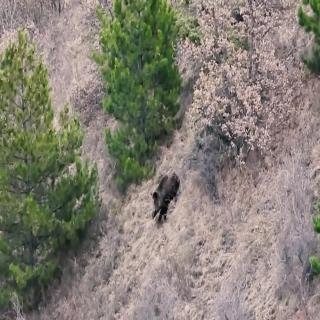Pig: (149, 166, 185, 213)
